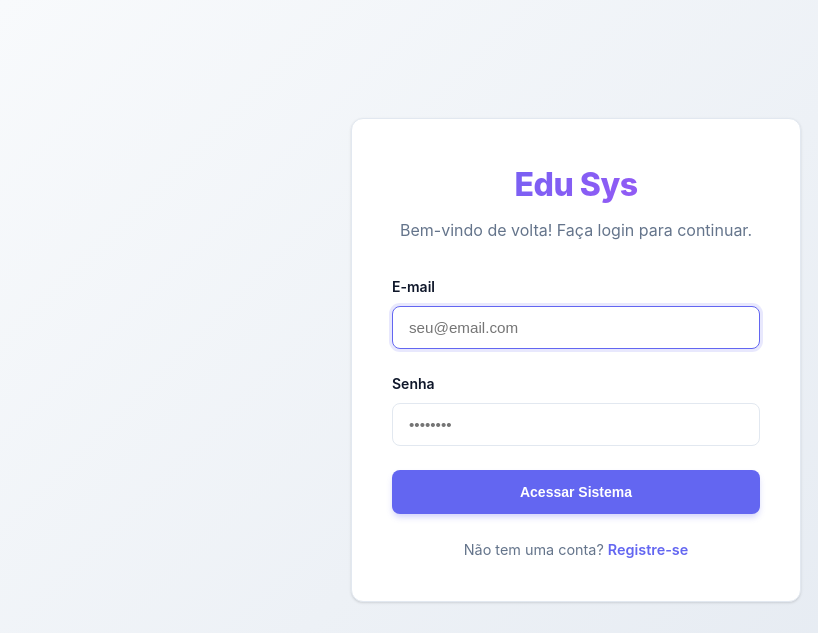
Autenticação › Deve exibir erro ao tentar logar com credenciais inválidas
The image size is (818, 633).
Type "email_inexistente@teste.com" into the field labelled "E-mail" at x=576, y=328, box x1=392 y1=306 x2=760 y2=349
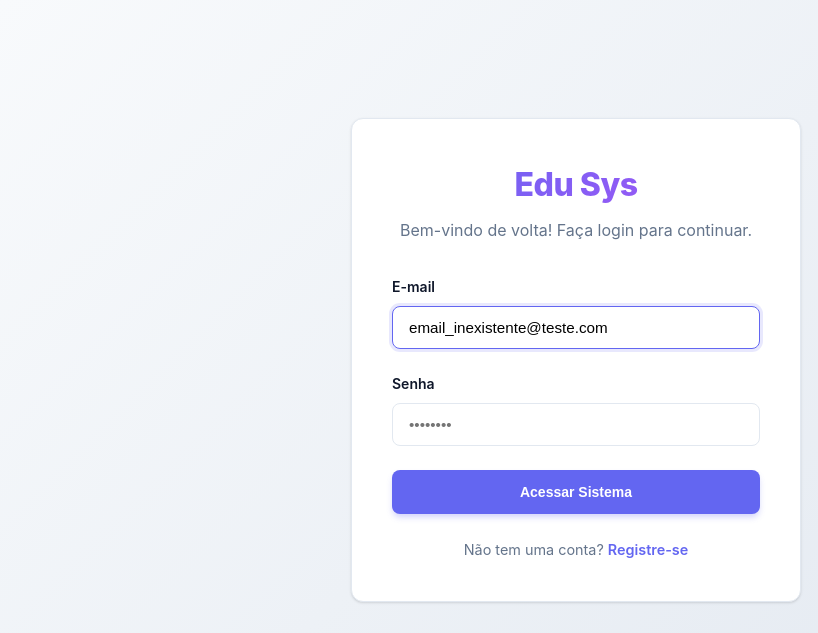
Type "senhaerrada" into the password field labelled "Senha" at x=576, y=426, box x1=392 y1=404 x2=760 y2=447
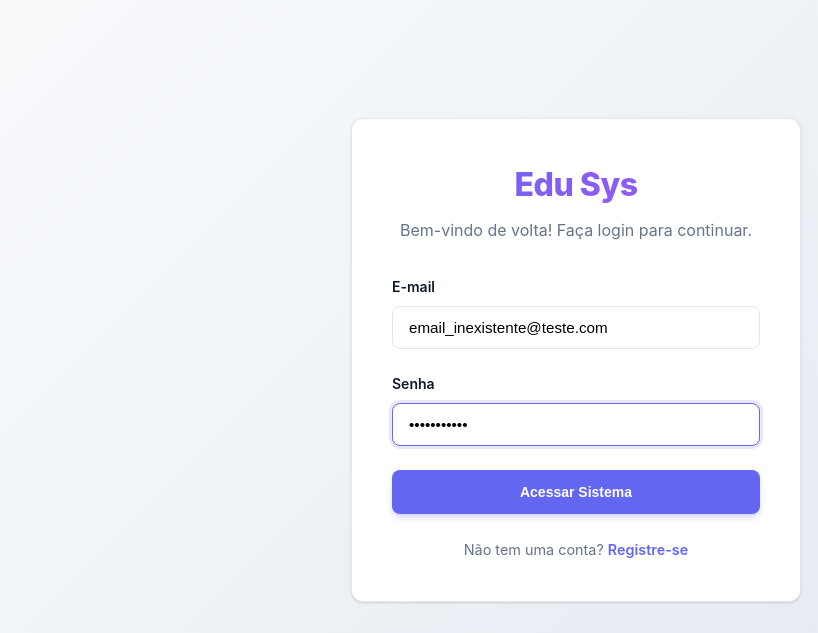
Click the button "Acessar Sistema" at x=576, y=493, box x1=392 y1=471 x2=760 y2=515
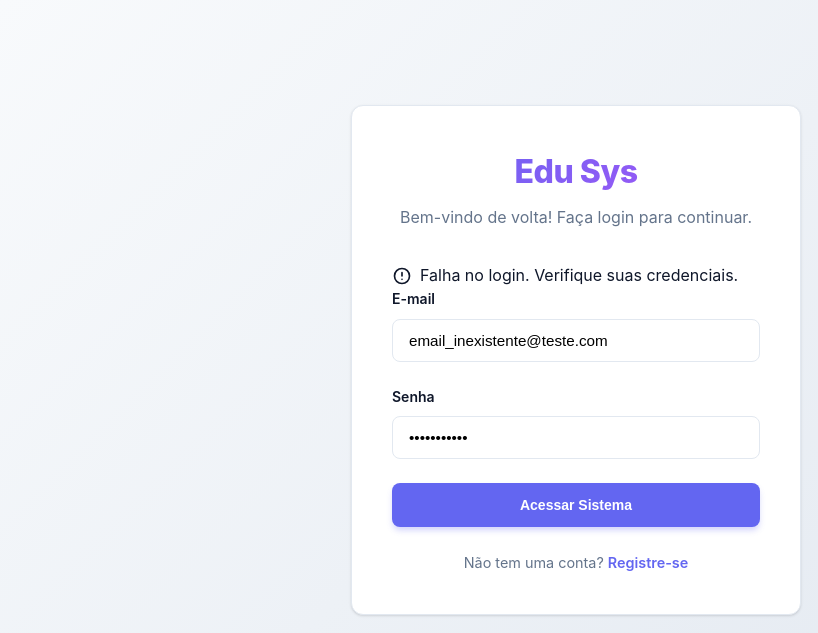
Now the text "Falha no login" is shown, box x1=420 y1=265 x2=738 y2=285
